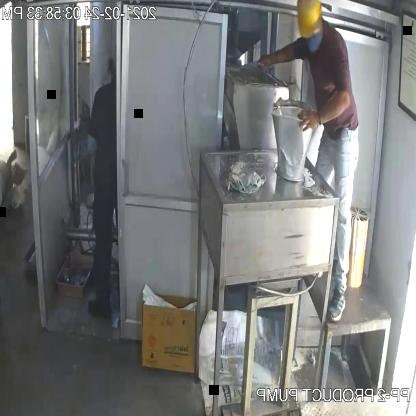helmet: (296, 0, 325, 41)
